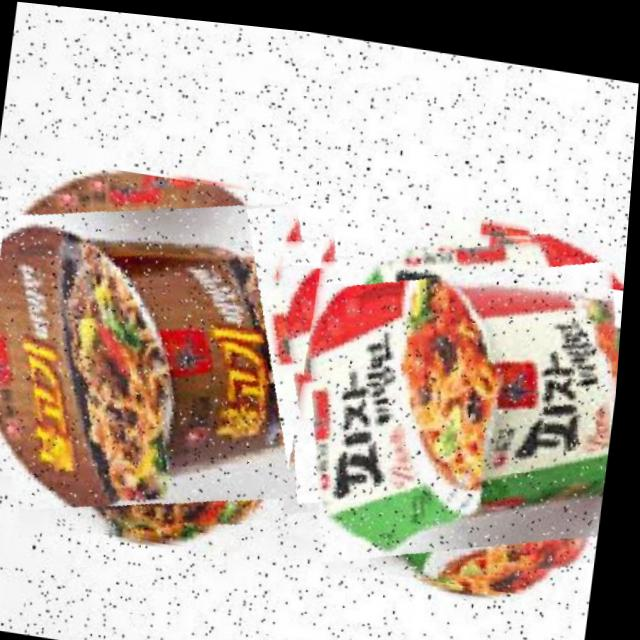Miscellaneous: (0, 151, 376, 562), (280, 192, 630, 592)
